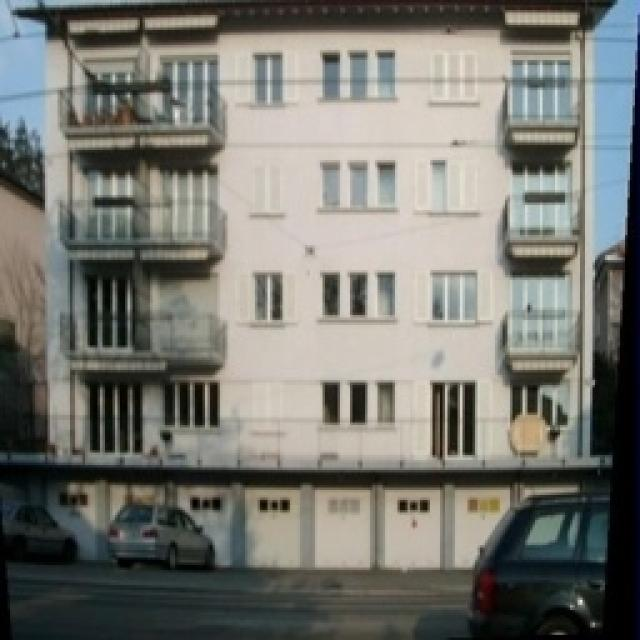building: (45, 0, 603, 590)
